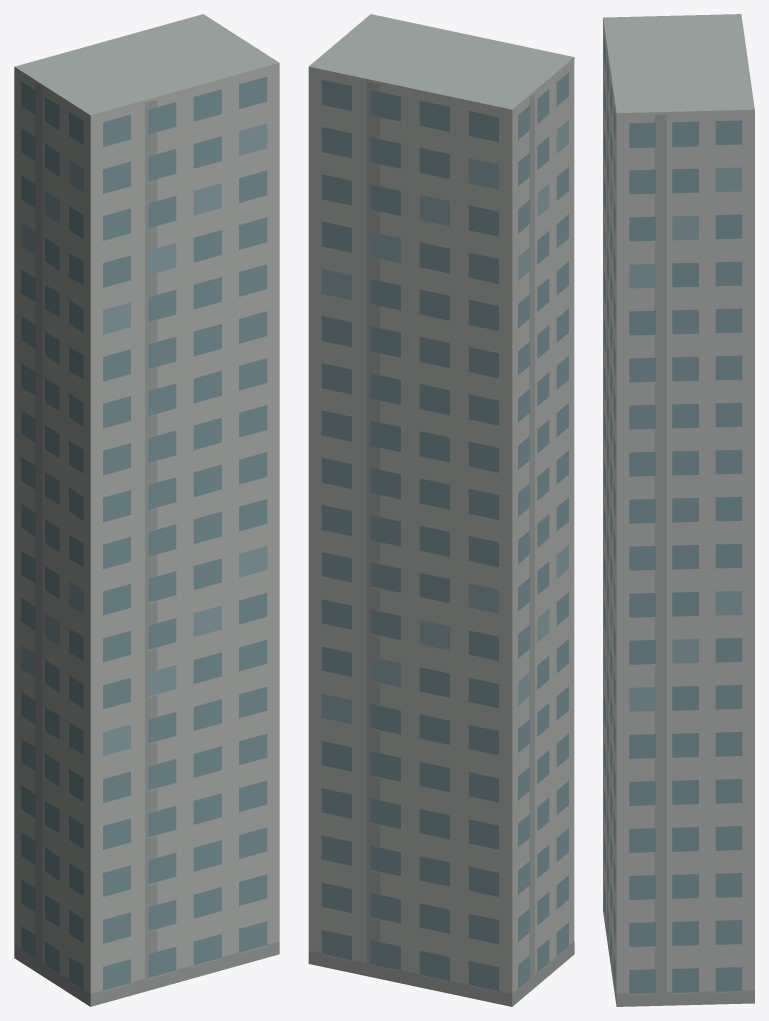
The model's file is residential-3f8ccc37-377f-4ae1-93bc-128d88b23fed.glb.
3 renders of one model, left to right at view 1: azimuth 30°, elevation 25°; view 2: azimuth 150°, elevation 25°; view 3: azimuth 270°, elevation 25°, orthographic.
Parts seen in each view (by area): view 1: residential-3f8ccc37-377f-4ae1-93bc-128d88b23fed.tmp; view 2: residential-3f8ccc37-377f-4ae1-93bc-128d88b23fed.tmp; view 3: residential-3f8ccc37-377f-4ae1-93bc-128d88b23fed.tmp.
Part boxes in pixels (bbox=[...]): residential-3f8ccc37-377f-4ae1-93bc-128d88b23fed.tmp: bbox=[14, 14, 279, 1006]; residential-3f8ccc37-377f-4ae1-93bc-128d88b23fed.tmp: bbox=[308, 14, 574, 1006]; residential-3f8ccc37-377f-4ae1-93bc-128d88b23fed.tmp: bbox=[603, 14, 754, 1006].
Size of the model in its own units: 18.82 by 79 by 12.17.
